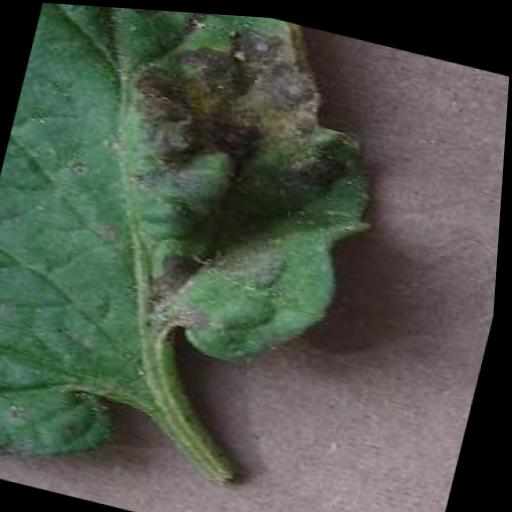Early Blight: (0, 0, 411, 512)
